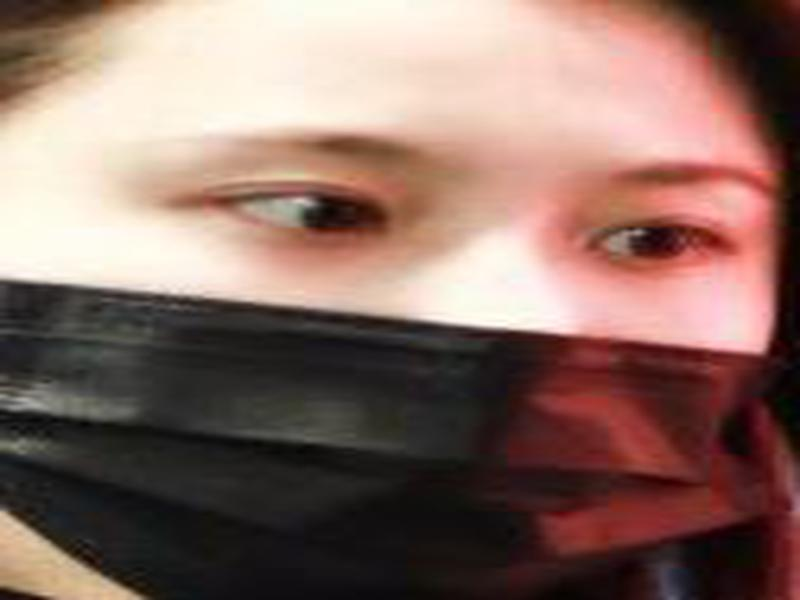with_mask: (1, 1, 785, 596)
